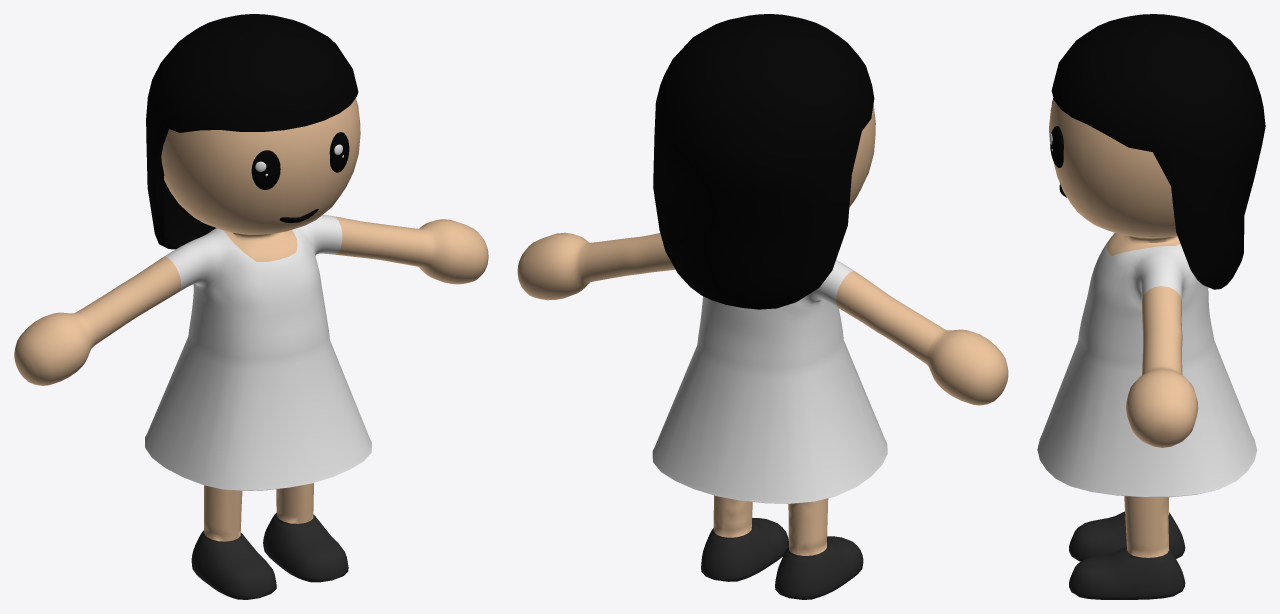
File: Kid_Female.fbx
3 views of the same model, side by side, from view 1: azimuth 30°, elevation 25°; view 2: azimuth 150°, elevation 25°; view 3: azimuth 270°, elevation 25° (orthographic). The views are drawn at different scales.
Parts seen in each view (by area): view 1: Kid_Female; view 2: Kid_Female; view 3: Kid_Female.
Boxes of the visible parts, x1=… form: Kid_Female: x1=14, y1=14, x2=488, y2=599; Kid_Female: x1=517, y1=14, x2=1008, y2=599; Kid_Female: x1=1037, y1=14, x2=1265, y2=599.
Bounding box in the file's own units: 2.55 × 2.81 × 1.07.
